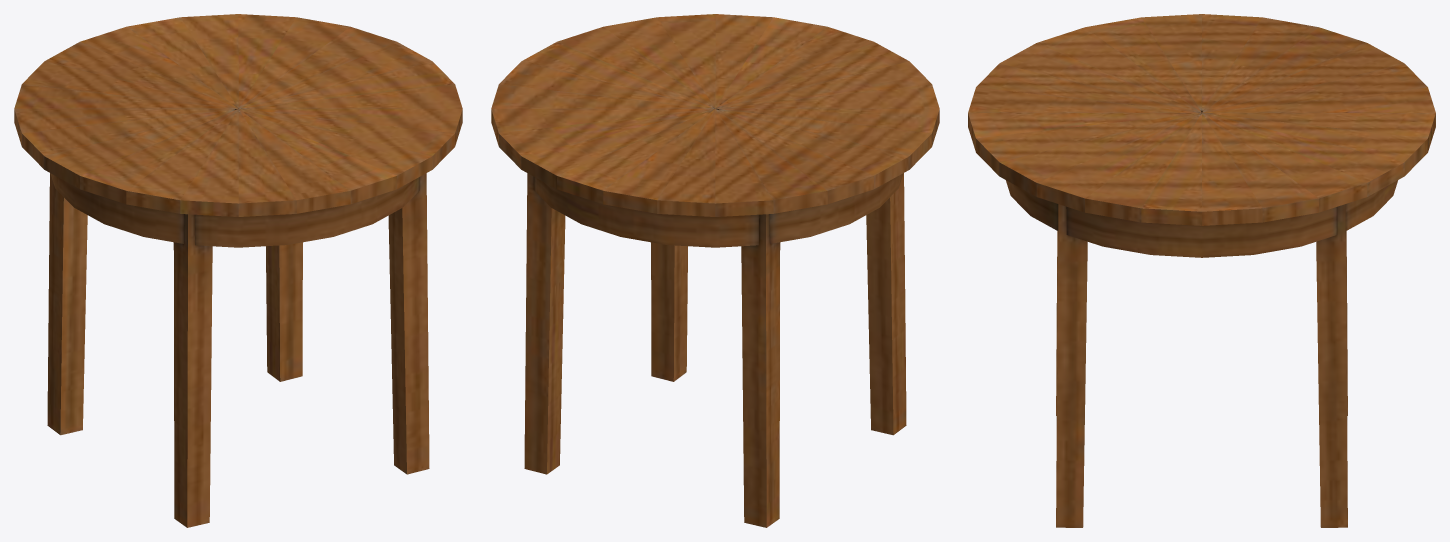
The model's file is table_round_lod1_web.glb.
3 renders of one model, left to right at view 1: azimuth 30°, elevation 25°; view 2: azimuth 150°, elevation 25°; view 3: azimuth 270°, elevation 25°, orthographic. The views are drawn at different scales.
Parts seen in each view (by area): view 1: TableRound_Mesh; view 2: TableRound_Mesh; view 3: TableRound_Mesh.
Boxes of the visible parts, x1,y1,x2,y2 form: TableRound_Mesh: [14, 14, 462, 527]; TableRound_Mesh: [491, 14, 939, 527]; TableRound_Mesh: [968, 14, 1435, 527].
Size of the model in its own units: 0.9 by 0.7506 by 0.9.
1 material, 1 textured.
